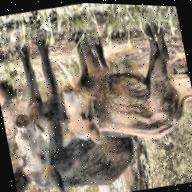boar: (0, 26, 141, 192), (40, 11, 192, 158)
